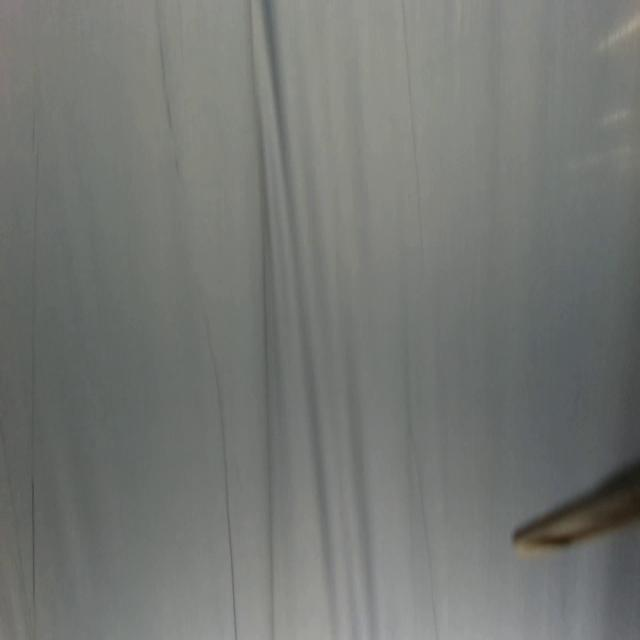crease: (248, 0, 276, 640), (204, 312, 238, 640), (407, 412, 438, 640), (399, 0, 425, 253), (30, 114, 41, 640), (154, 0, 182, 184)
